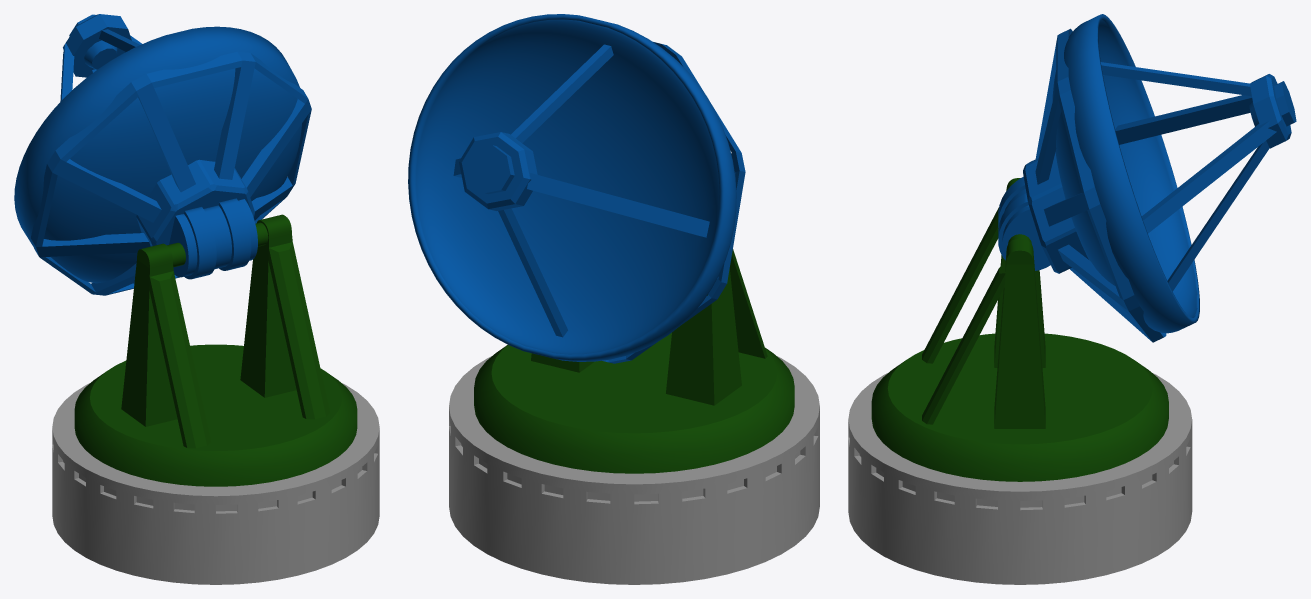
File: tarelka.FBX
3 views of the same model, side by side, from view 1: azimuth 30°, elevation 25°; view 2: azimuth 150°, elevation 25°; view 3: azimuth 270°, elevation 25° (orthographic). The views are drawn at different scales.
Parts seen in each view (by area): view 1: Tarelka, Opora, Osnovanie; view 2: Tarelka, Osnovanie, Opora; view 3: Tarelka, Opora, Osnovanie.
Boxes of the visible parts, bbox=[...] form: Tarelka: bbox=[14, 14, 311, 295]; Opora: bbox=[74, 214, 357, 486]; Osnovanie: bbox=[52, 383, 379, 584]; Tarelka: bbox=[408, 14, 745, 363]; Osnovanie: bbox=[449, 356, 819, 584]; Opora: bbox=[474, 249, 794, 473]; Tarelka: bbox=[998, 14, 1296, 342]; Opora: bbox=[871, 178, 1168, 481]; Osnovanie: bbox=[848, 373, 1192, 584].
Size of the model in its own units: 19955 by 26016 by 30755.
